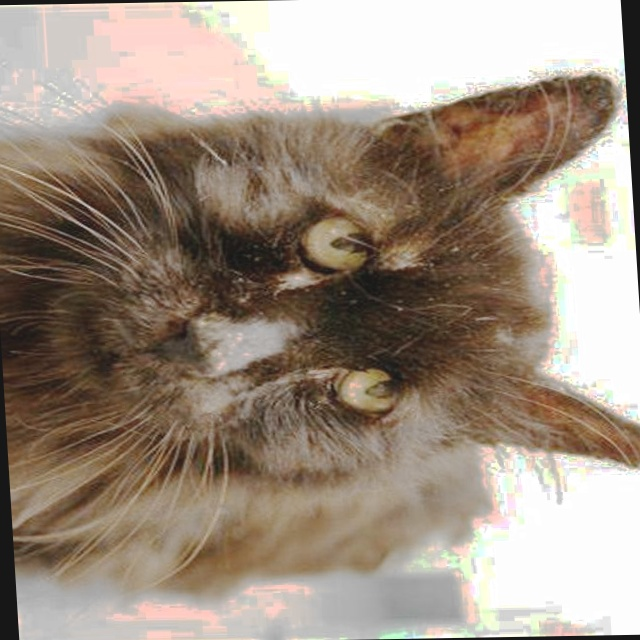ringworm: (455, 82, 601, 175)
